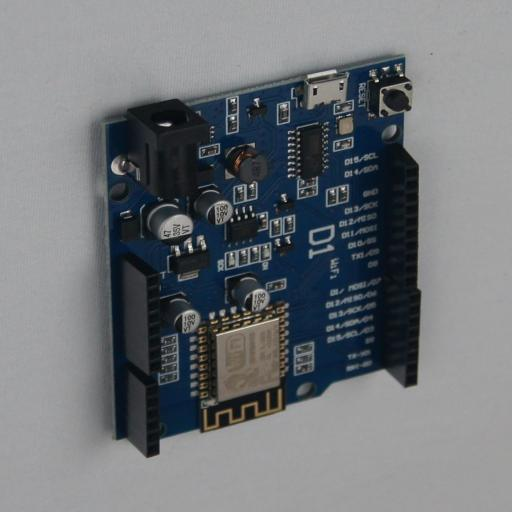Arduino Uno WiFi Shield: (93, 54, 421, 458)
